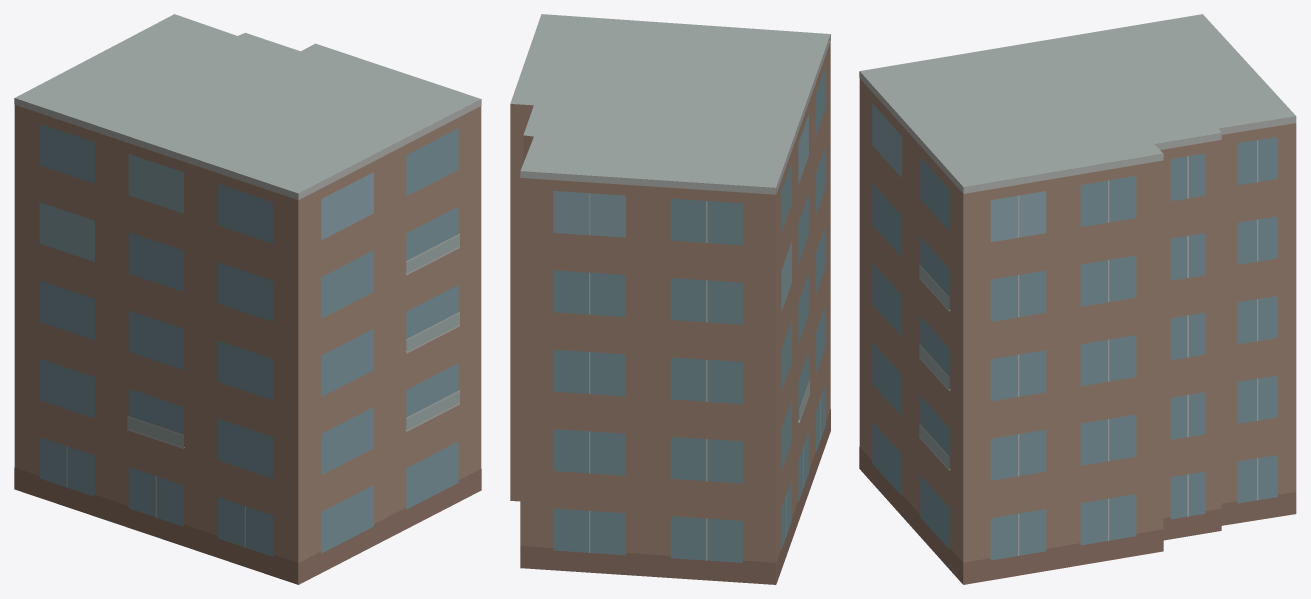
File: survey-upis-32882444.glb
The picture shows the model from 3 angles, left to right: view 1: azimuth 30°, elevation 25°; view 2: azimuth 150°, elevation 25°; view 3: azimuth 270°, elevation 25°; orthographic projection.
Parts seen in each view (by area): view 1: survey-upis-32882444.tmp; view 2: survey-upis-32882444.tmp; view 3: survey-upis-32882444.tmp.
Part boxes in pixels (x1=…): survey-upis-32882444.tmp: x1=14, y1=14, x2=481, y2=584; survey-upis-32882444.tmp: x1=510, y1=14, x2=830, y2=584; survey-upis-32882444.tmp: x1=859, y1=14, x2=1296, y2=584.
Size of the model in its own units: 13.27 by 14.2 by 14.14.
